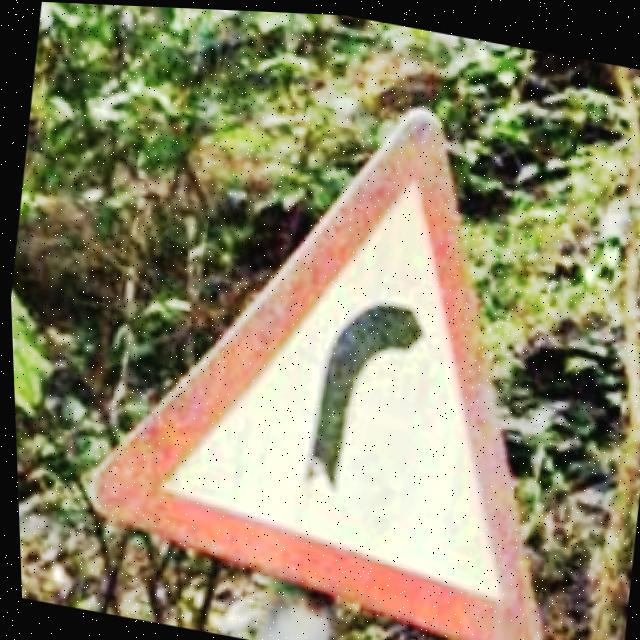rightbend: (84, 105, 538, 640)
